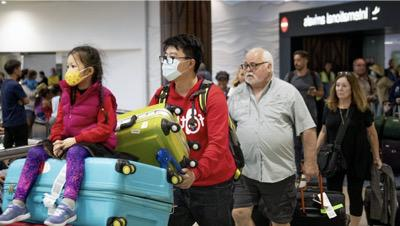with_mask: (160, 52, 188, 80), (63, 59, 85, 88)
without_mask: (241, 59, 264, 86), (334, 82, 350, 99), (353, 61, 368, 76), (293, 55, 304, 71), (216, 77, 228, 89)
